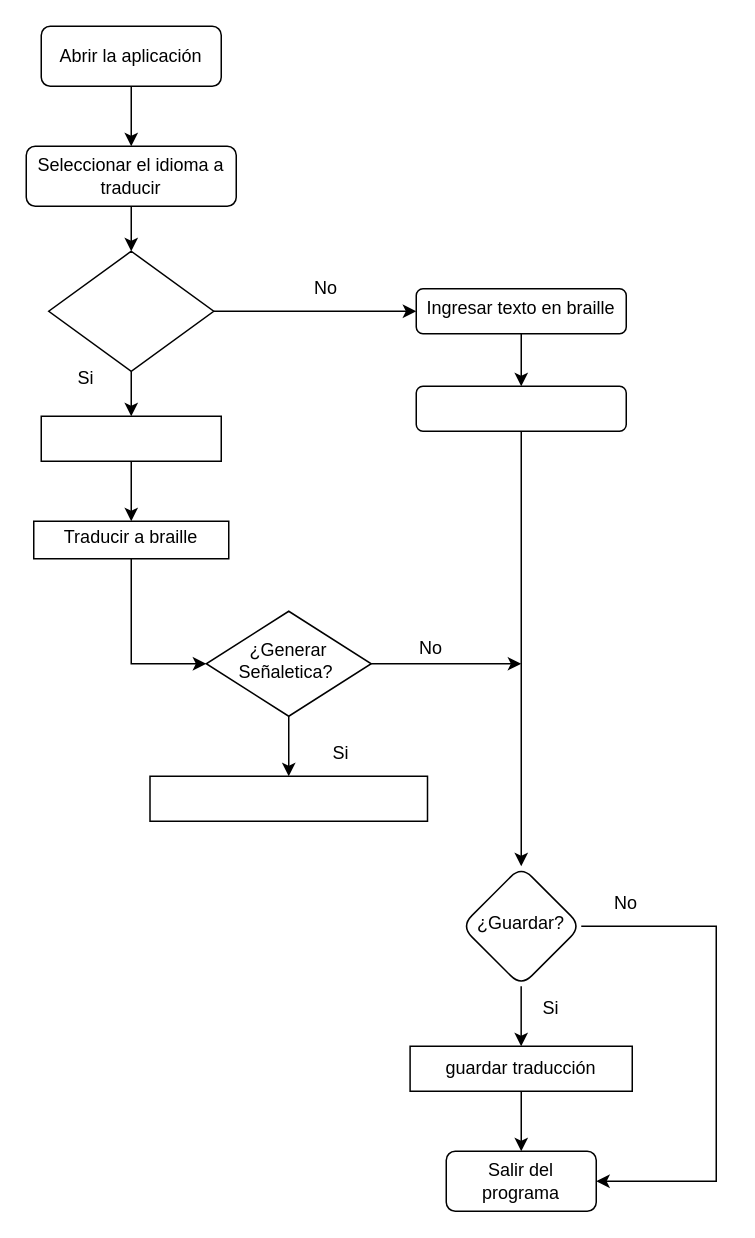
This 755x1238 diagram has some shape labels left out. The centre of each missing label's shape, as x and y in pixels:
"El texto esta en español ?" belongs at point (130, 310).
"Ingresar Texto" belongs at point (130, 438).
"seleccionar formato de salida." belongs at point (288, 798).
"traducir al español" belongs at point (520, 408).
